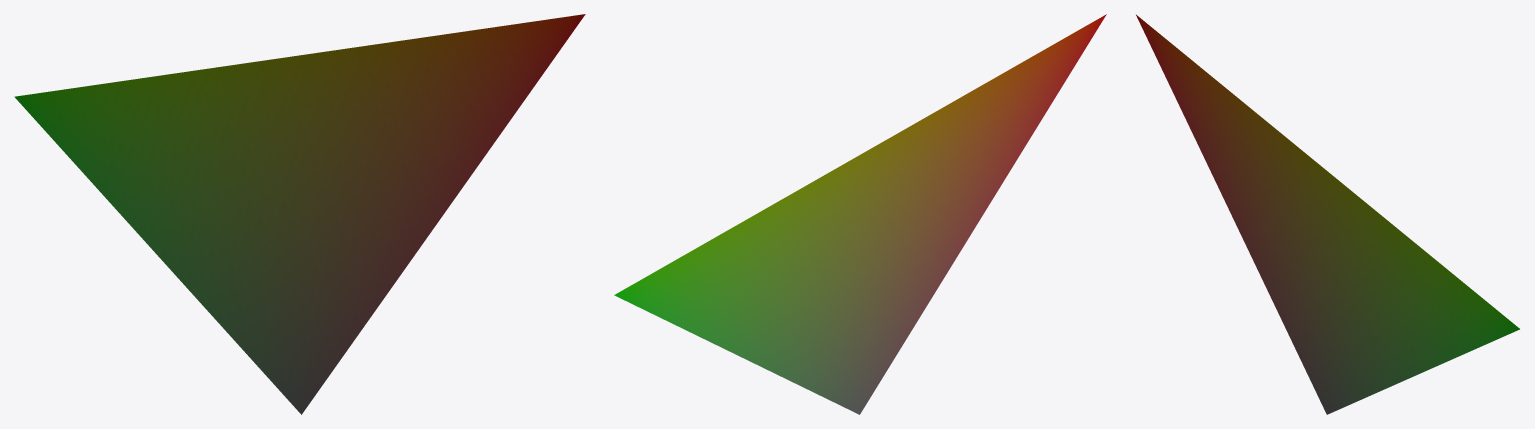
Rendered from start_border_patch_2.obj.
3 renders of one model, left to right at view 1: azimuth 90°, elevation 25°; view 2: azimuth 150°, elevation 25°; view 3: azimuth 270°, elevation 25°, orthographic. The views are drawn at different scales.
Size of the model in its own units: 0.9272 by 1.12 by 1.16.
